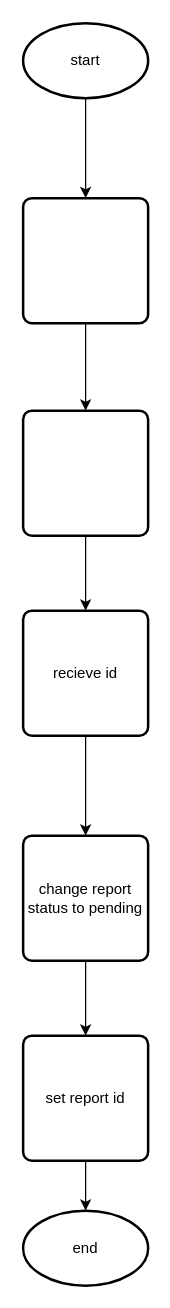
Some shapes in this 170 by 1308 pixel diagram are drawn without their labels. Here are the shapes that lost their labels. From the top down, the box of each, then its label:
(21, 196, 149, 324): file= query to report table and get file
(21, 409, 149, 536): upload file to AV
